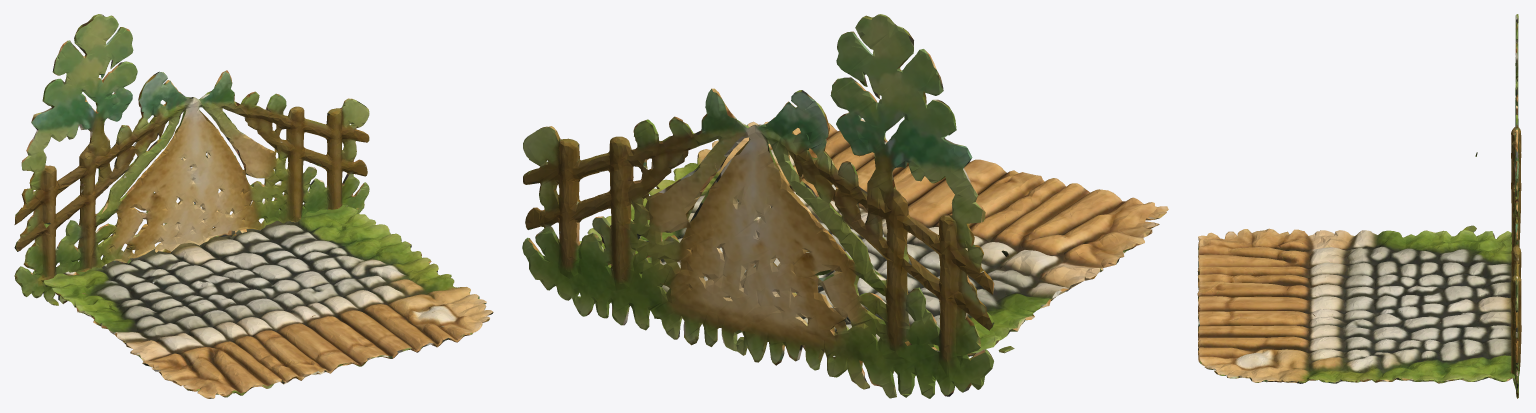
The model's file is wc-bridge-paint.glb.
The picture shows the model from 3 angles, left to right: view 1: azimuth 30°, elevation 25°; view 2: azimuth 150°, elevation 25°; view 3: azimuth 270°, elevation 25°; orthographic projection. The views are drawn at different scales.
Visible parts, largest first — view 1: geometry_0; view 2: geometry_0; view 3: geometry_0.
Part boxes in pixels (box(x1,y1,x2,y2)): geometry_0: box(14, 14, 493, 398); geometry_0: box(522, 14, 1168, 398); geometry_0: box(1197, 14, 1521, 398).
Bounding box in the file's own units: 1.99 × 1.54 × 1.61.
Materials: 1 (1 with a texture image).
